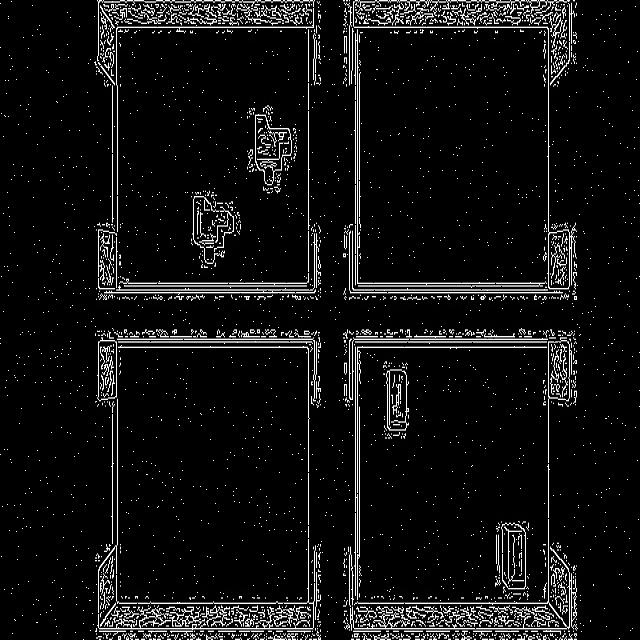Battery: (495, 522, 529, 598), (382, 362, 408, 438)
Sensor: (248, 107, 296, 193), (191, 190, 240, 268)
